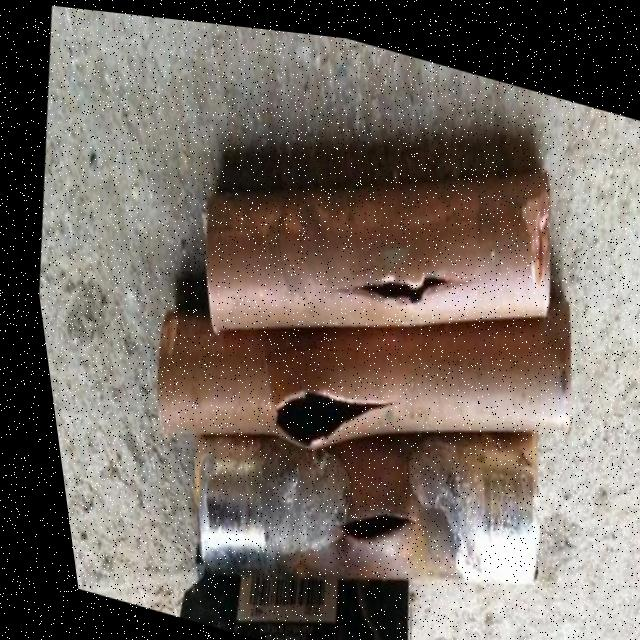crack: (313, 256, 476, 309)
rupture: (255, 375, 395, 447), (319, 498, 411, 548)
